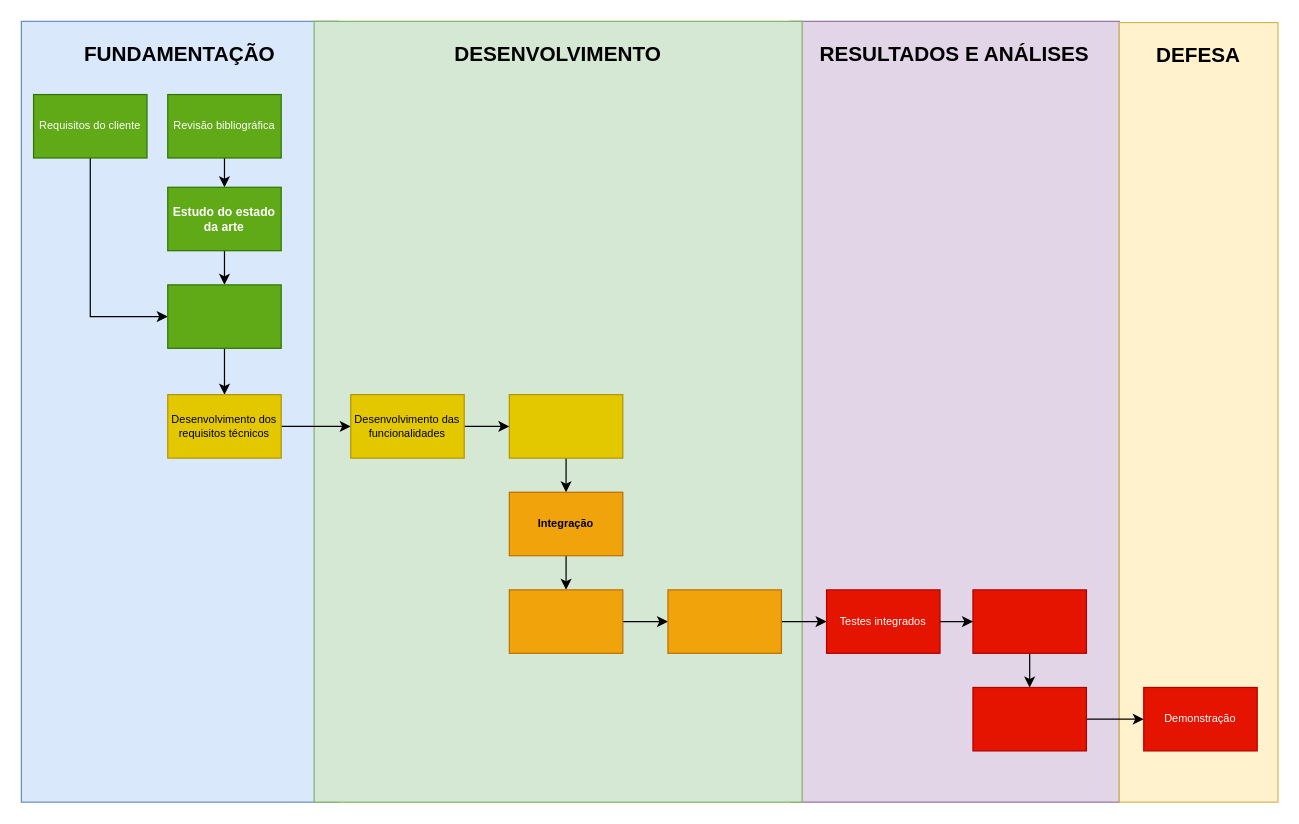
Some shapes in this 1299 by 824 pixel diagram are drawn without their labels. The shapes that lost their labels are listed below. From the top down, each one's centre as x and y in pixels, then its label:
the point at 224,316: Conceito
the point at 565,425: Simulação
the point at 565,621: Testes do sistema do robô
the point at 724,621: Revisão do conceito
the point at 1029,621: Planejamento de experimentos
the point at 1029,718: Análise e resultados
